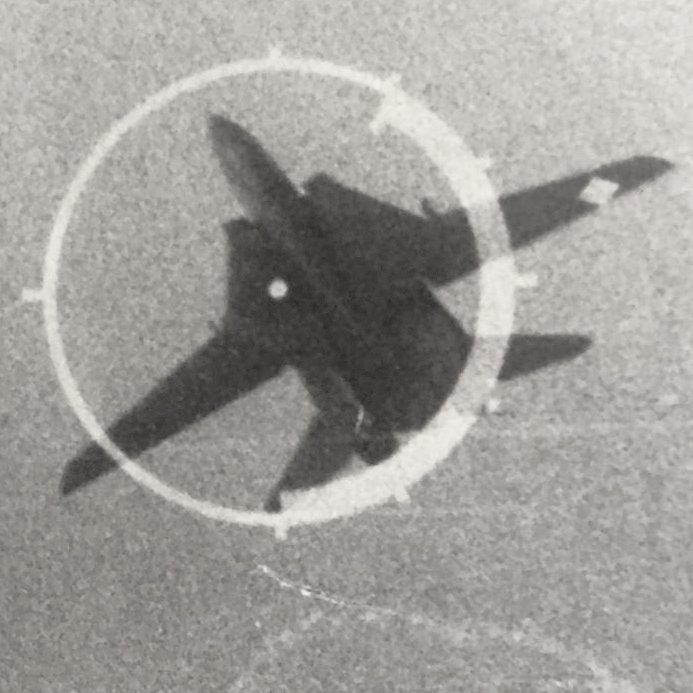F14: (58, 113, 678, 513)
